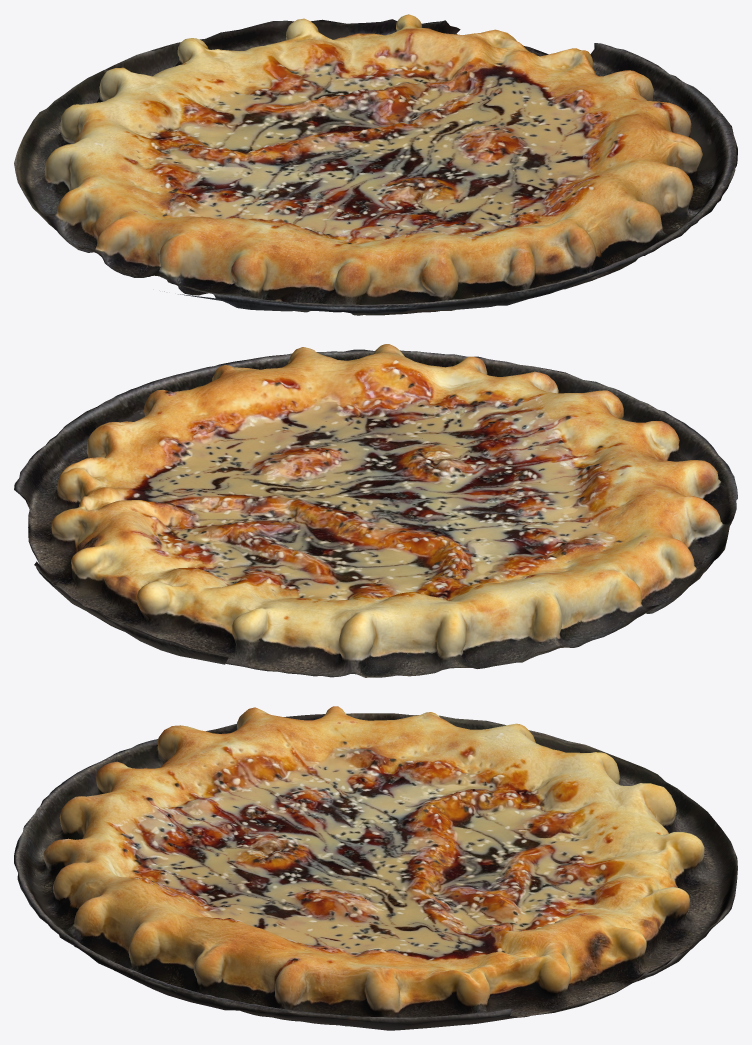
The model's file is manageeshMolassesAndTahini.glb.
3 views of the same model, one above another, from view 1: azimuth 30°, elevation 25°; view 2: azimuth 150°, elevation 25°; view 3: azimuth 270°, elevation 25° (orthographic).
Parts seen in each view (by area): view 1: ObjectCapture; view 2: ObjectCapture; view 3: ObjectCapture.
Part boxes in pixels (left/top/right/bottom): ObjectCapture: left=14, top=14, right=737, bottom=315; ObjectCapture: left=14, top=344, right=737, bottom=677; ObjectCapture: left=14, top=706, right=737, bottom=1030.
Bounding box in the file's own units: 0.2997 × 0.0298 × 0.2978.
Materials: 1 (1 with a texture image).
